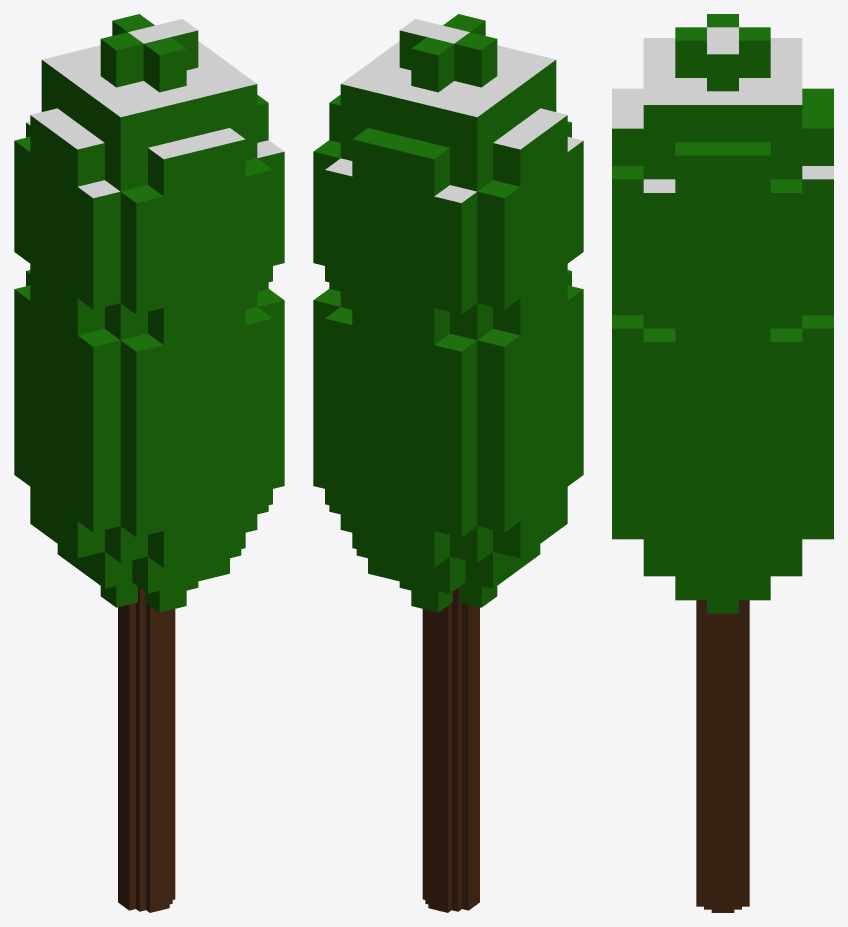
File: arbre2_snow.fbx
3 views of the same model, side by side, from view 1: azimuth 30°, elevation 25°; view 2: azimuth 150°, elevation 25°; view 3: azimuth 270°, elevation 25° (orthographic).
Visible parts, largest first — view 1: Sphere; view 2: Sphere; view 3: Sphere.
Boxes of the visible parts, box(x1,y1,x2,y2) form: Sphere: box(14, 14, 284, 912); Sphere: box(313, 14, 583, 912); Sphere: box(612, 14, 833, 912).
Bounding box in the file's own units: 183 × 791 × 183.
